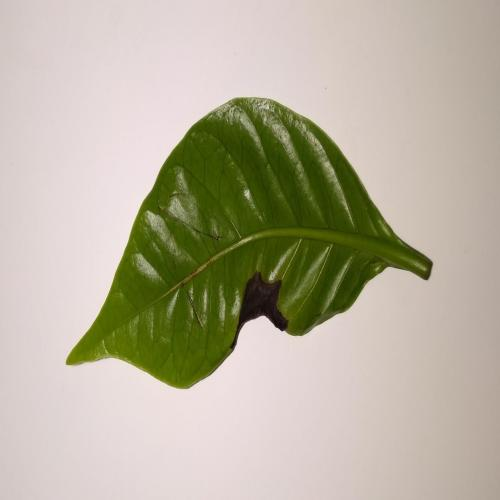miner: (230, 272, 287, 354)
